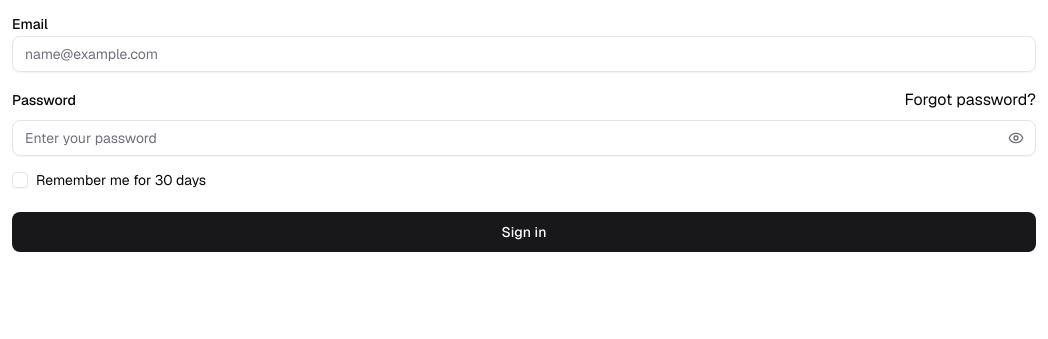
Test: LoginFormModern › Form Submission › should handle submission errors
Step 1. Type "test@example.com" into the field labelled "Email" → (524, 54), box [12,36,1036,72]
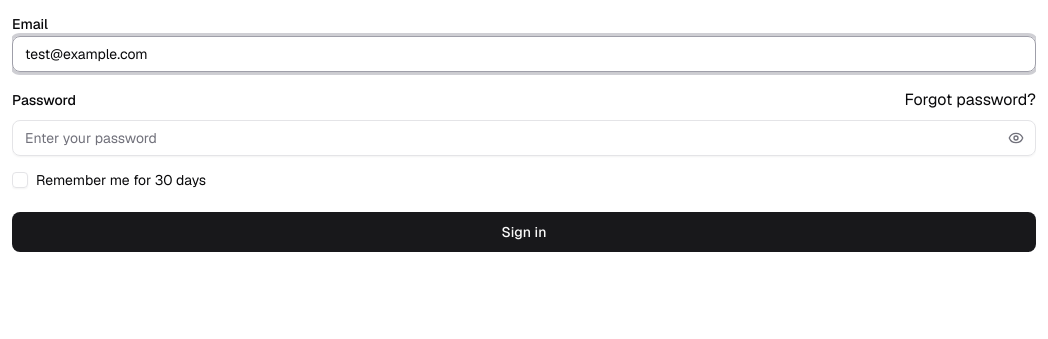
Step 2. Type "password123" into the password field labelled "Password" → (524, 138), box [12,120,1036,156]
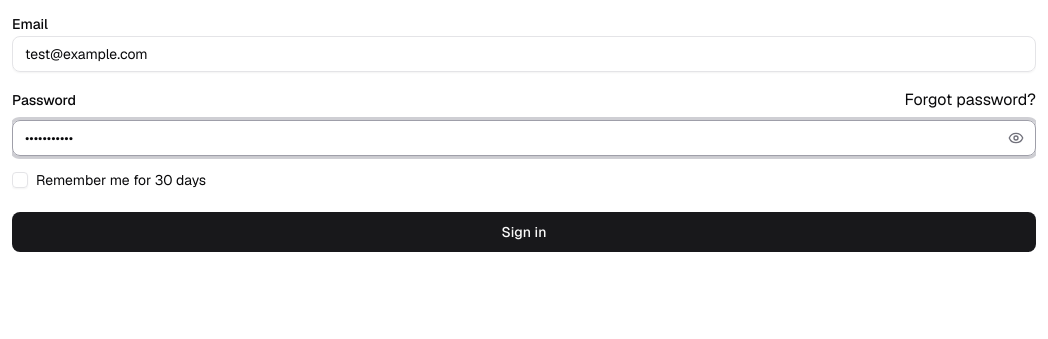
Step 3. Click the button "Sign in" → (524, 232), box [12,212,1036,252]
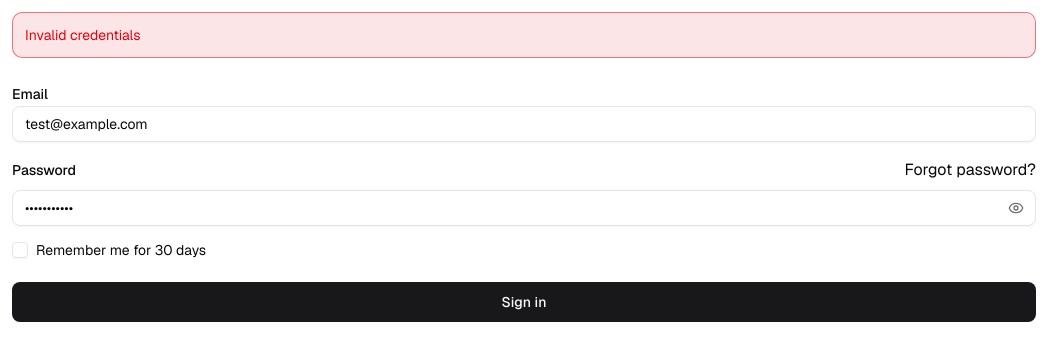
Check: the message "Invalid credentials" is shown, box [12,12,1036,58]
